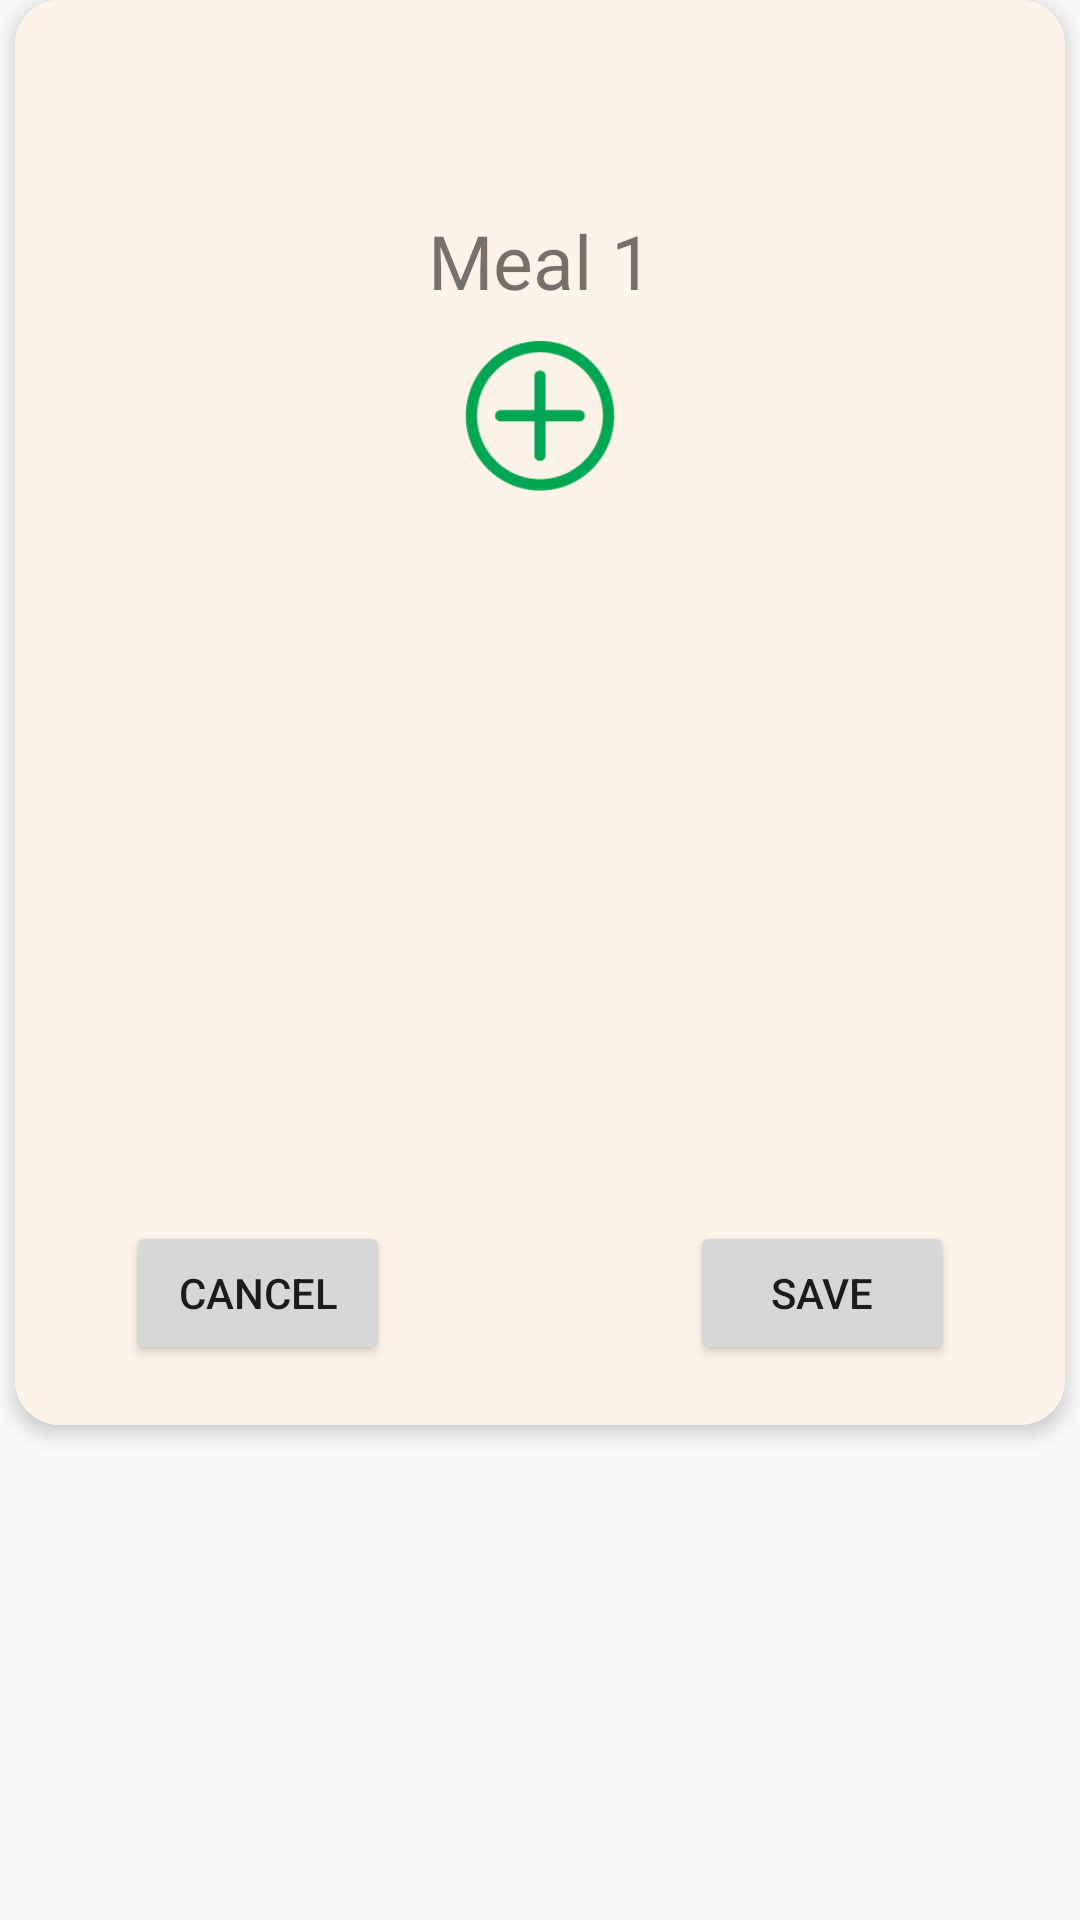

Where to tap for icons on this 1080 × 1920 app screen, as [x,y]:
add: [540,416]
